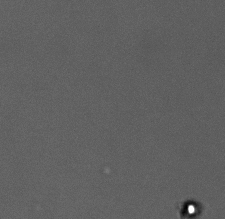Living Cell: (183, 200, 201, 217)
